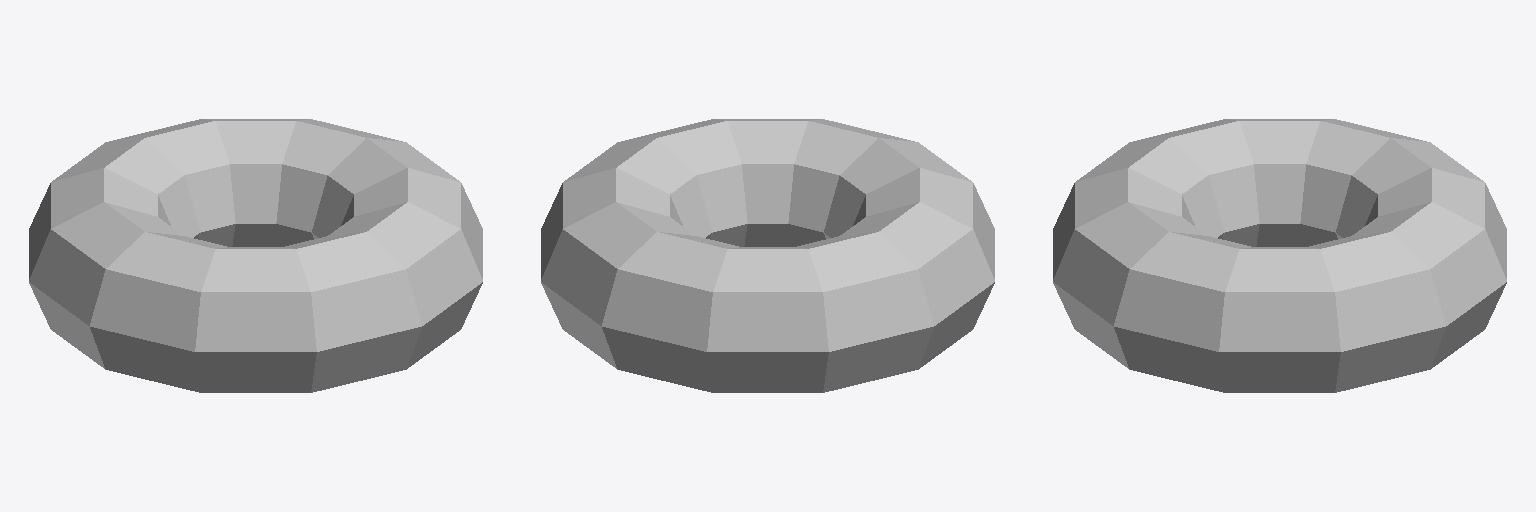
The model's file is donut.obj.
3 views of the same model, side by side, from view 1: azimuth 30°, elevation 25°; view 2: azimuth 150°, elevation 25°; view 3: azimuth 270°, elevation 25° (orthographic).
Parts seen in each view (by area): view 1: torus; view 2: torus; view 3: torus.
Boxes of the visible parts, <box> form: torus: <box>29,119,482,392</box>; torus: <box>541,119,994,392</box>; torus: <box>1053,119,1506,392</box>.
Bounding box in the file's own units: 0.75 × 0.2588 × 0.75.